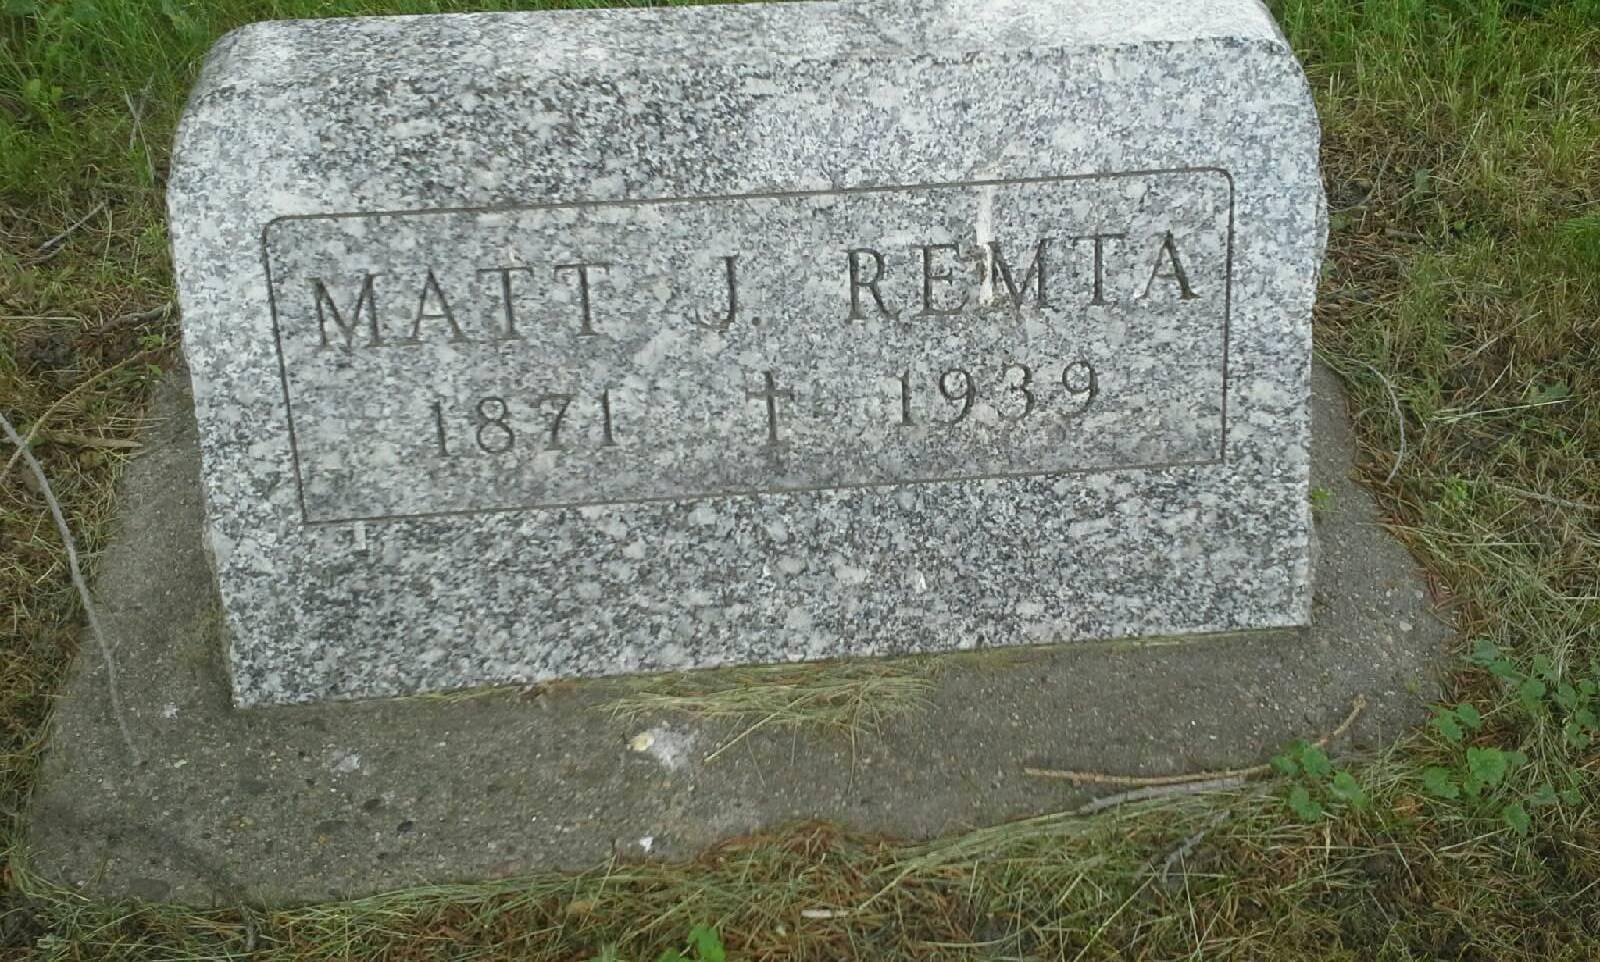upright: (150, 0, 1320, 714)
